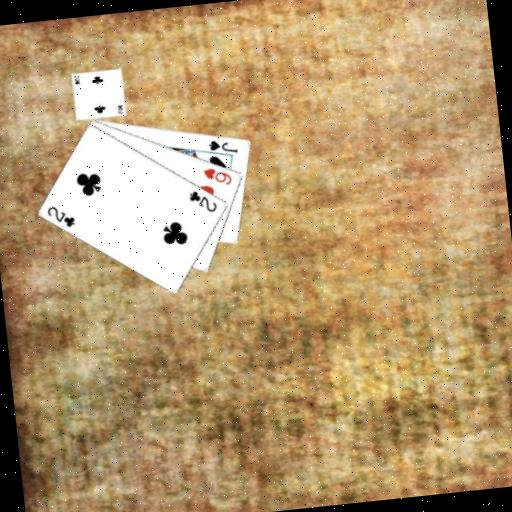2C: (186, 185, 220, 216), (44, 201, 78, 231)
6H: (201, 163, 235, 189)
JS: (206, 135, 240, 157)
